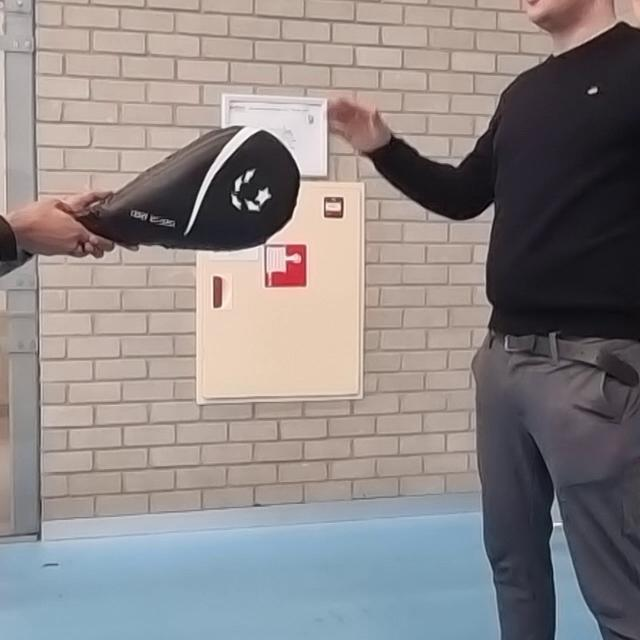paddle: (76, 126, 301, 253)
